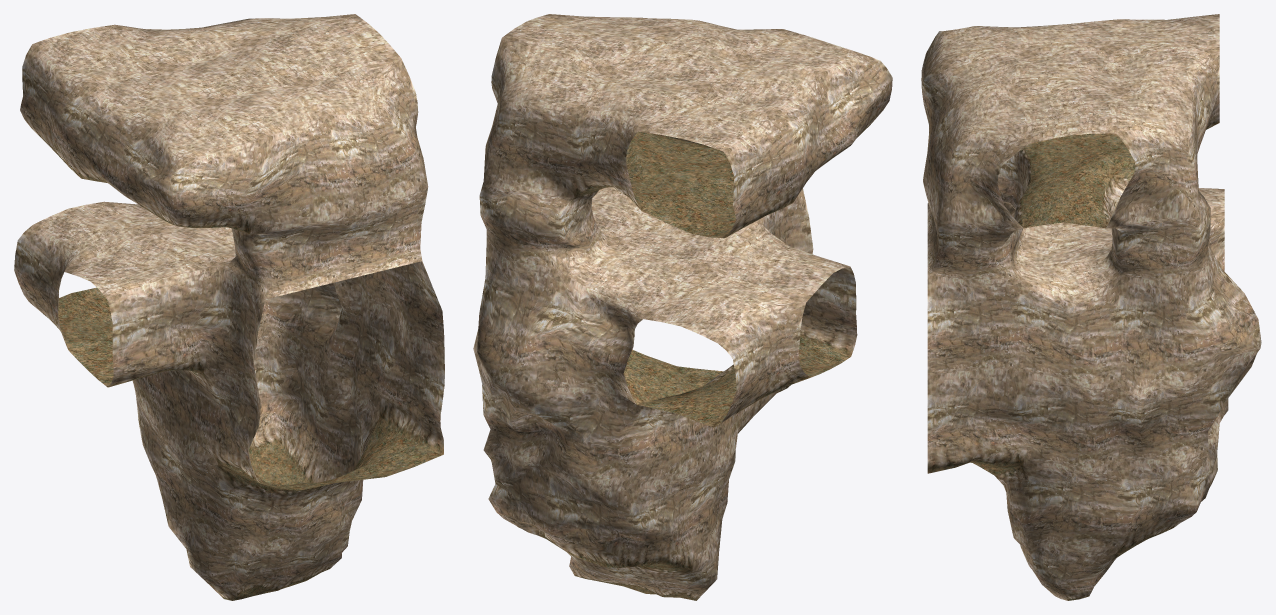
The model's file is thm_all_cave_s02_mirror_r5_mesh_r5.fbx.
The picture shows the model from 3 angles, left to right: view 1: azimuth 30°, elevation 25°; view 2: azimuth 150°, elevation 25°; view 3: azimuth 270°, elevation 25°; orthographic projection. The views are drawn at different scales.
Parts seen in each view (by area): view 1: mesh_node; view 2: mesh_node; view 3: mesh_node.
Part boxes in pixels (x1,y1,x2,y2): mesh_node: [14, 14, 444, 600]; mesh_node: [473, 14, 892, 600]; mesh_node: [921, 14, 1261, 600].
Bounding box in the file's own units: 34.53 × 59.24 × 36.4.
